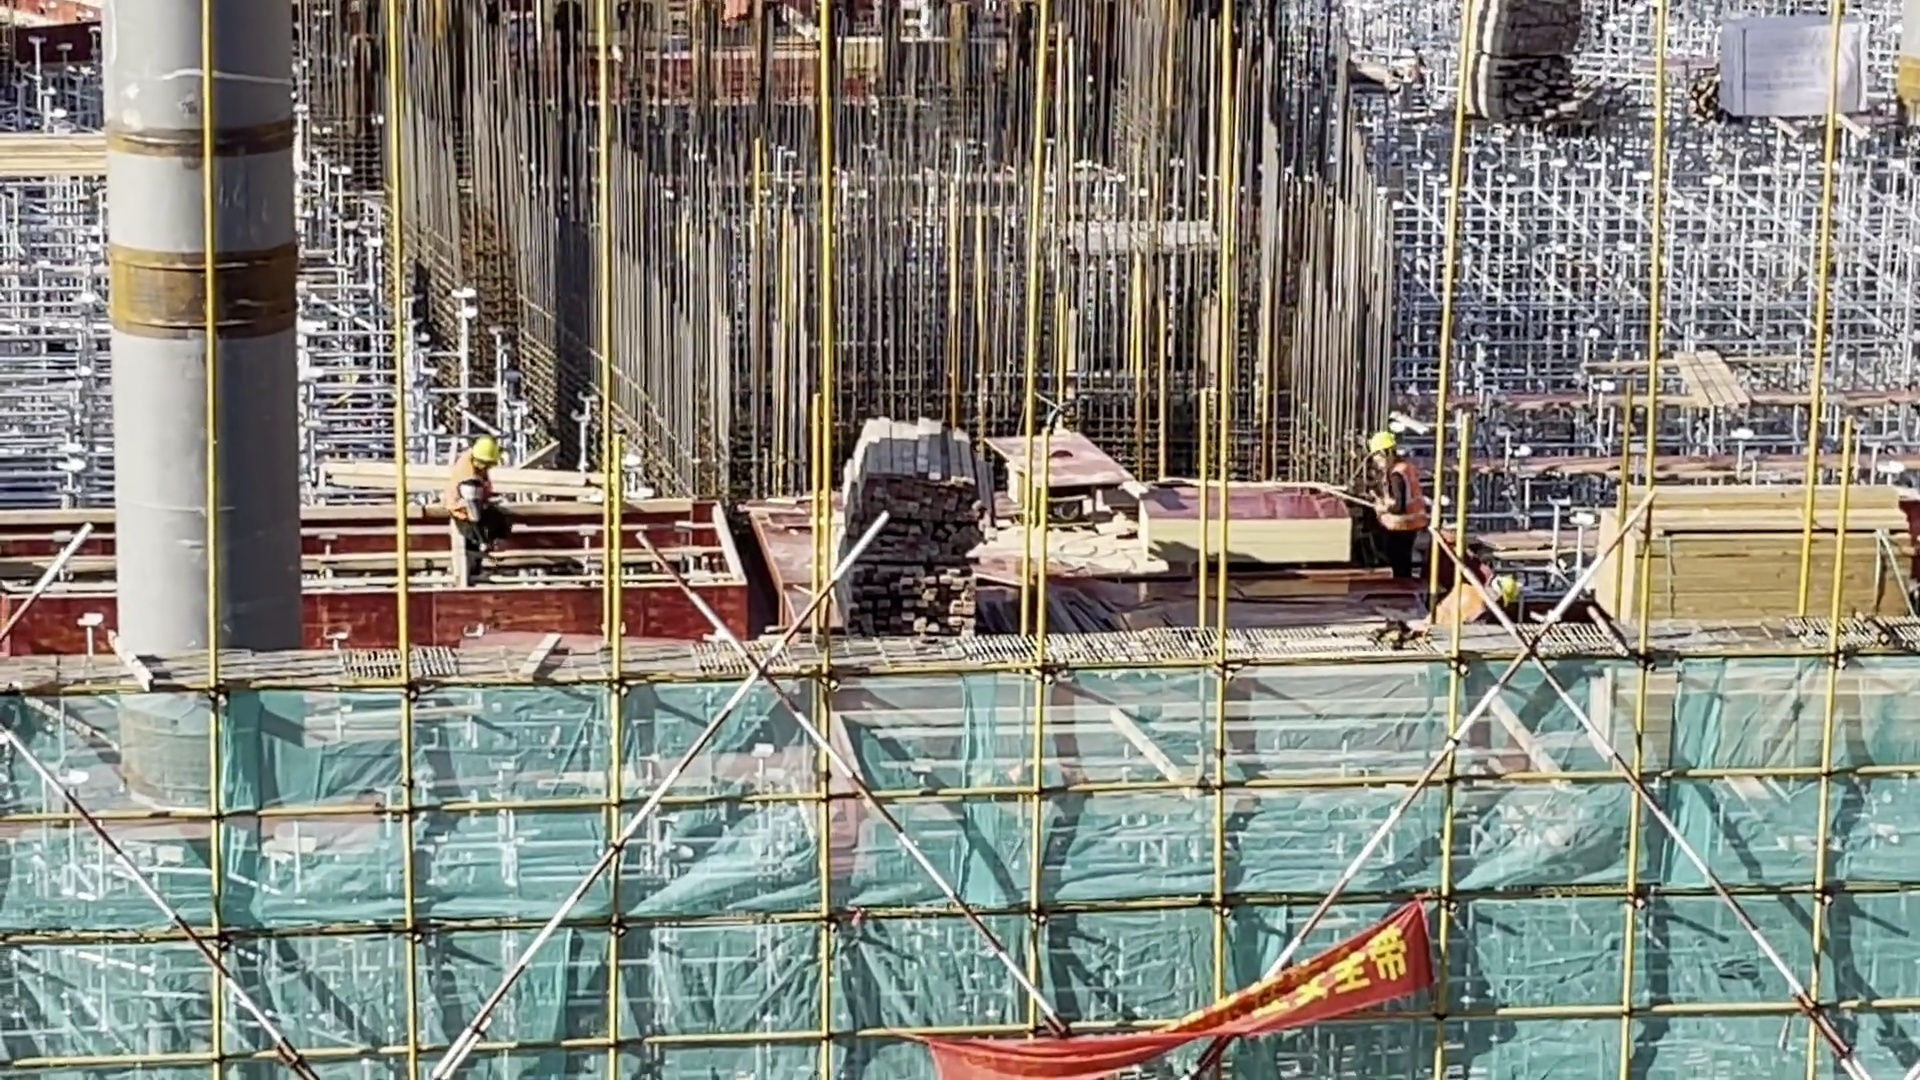helmet: (1363, 428, 1399, 461), (470, 435, 497, 471)
person: (1343, 416, 1437, 612), (438, 427, 501, 589), (1426, 560, 1543, 641)
vest: (1377, 453, 1432, 538), (1433, 576, 1504, 634), (449, 458, 495, 528)
